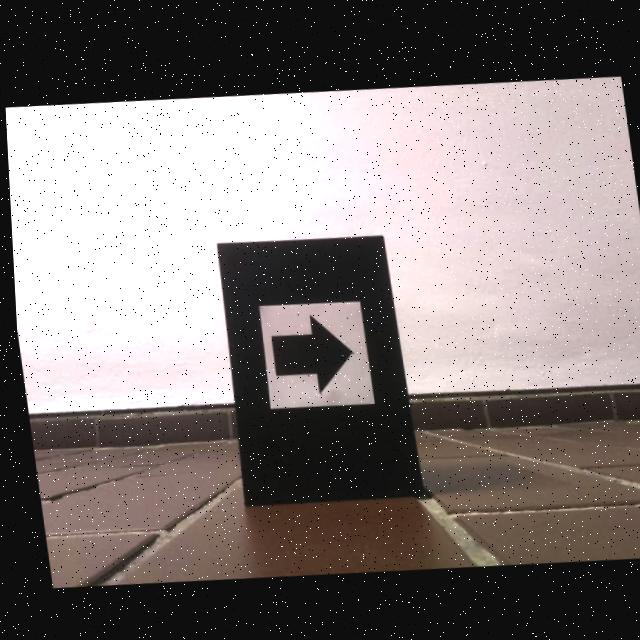RIGHT: (268, 311, 349, 391)
